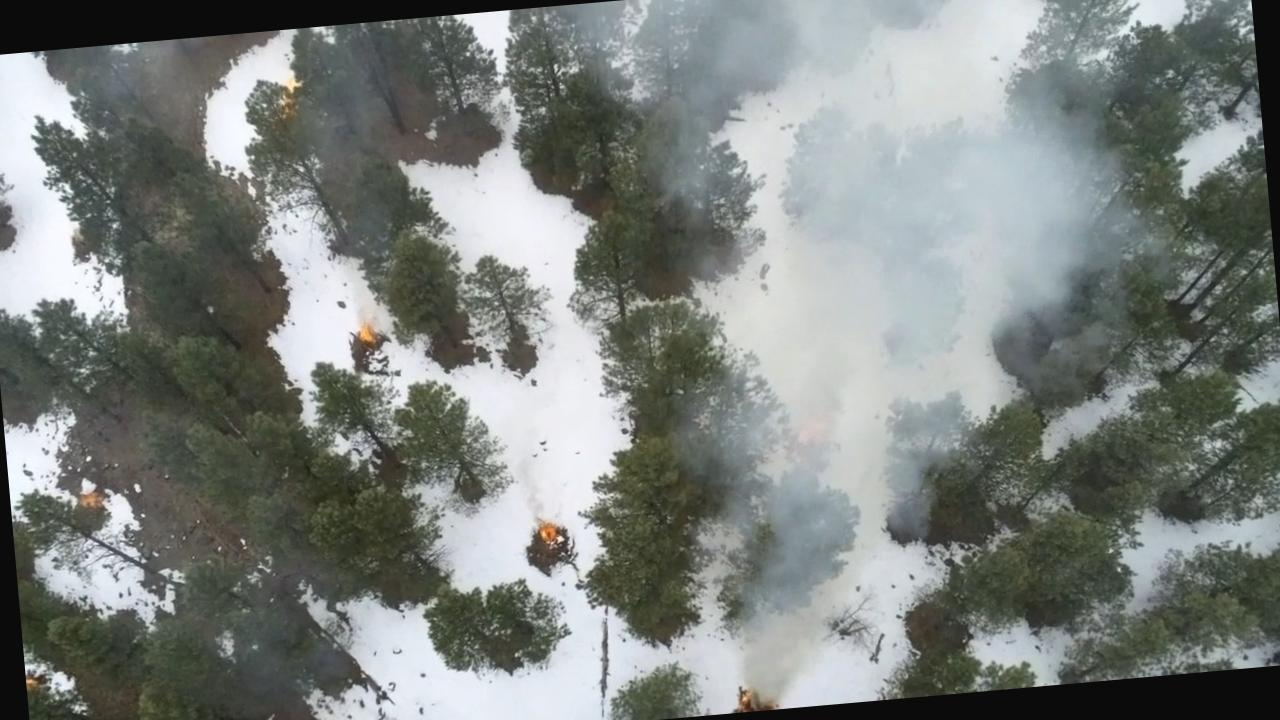fire: (531, 509, 565, 546), (348, 316, 379, 342)
smoke: (556, 0, 1240, 273), (662, 232, 1118, 543)
